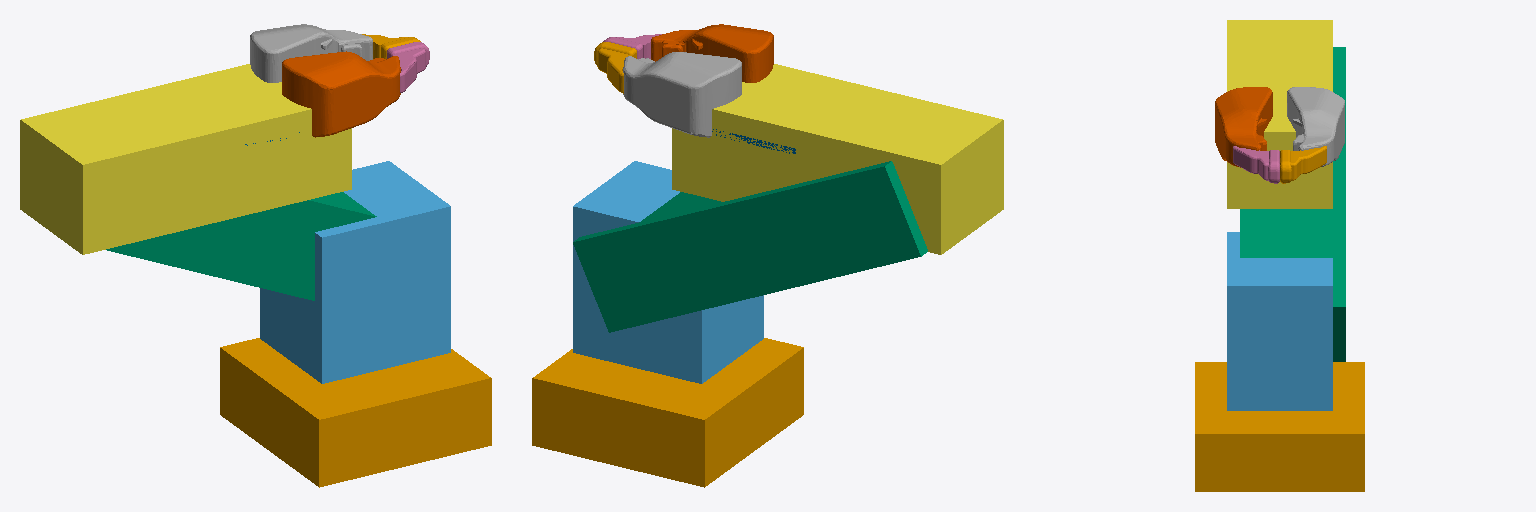
robot.urdf — cobra:
<?xml version="1.0"?>
<robot name="cobra">

  <link name="bottom">
    <visual>
      <geometry>
        <box size="0.8 0.8 0.3"/>
      </geometry>
    </visual>
  </link>

  <link name="pedestal">
    <visual>
      <geometry>
        <box size="0.6 0.5 0.65"/>
      </geometry>
      <origin rpy="0 0 0" xyz="0 0 0.3"/>
    </visual>
  </link>

  <joint name="bottom_to_pedestal" type="revolute">
    <axis xyz="0 0 1"/>
    <limit effort="1000.0" lower="0.00" upper="3.66519143" velocity="1.0"/>
    <parent link="bottom"/>
    <child link="pedestal"/>
    <origin xyz="0 0 0.25"/>
  </joint>

  <link name="arm">
    <visual>
      <geometry>
        <box size="0.40 0.50 1.60"/>
      </geometry>
      <origin rpy="0 0 0" xyz="0 0.06 0.6"/>
    </visual>
  </link>

  <joint name="pedestal_to_arm" type="revolute">
    <axis xyz="0 1 0"/>
    <limit effort="1000.0" lower="0" upper="2.18166157" velocity="1.0"/>  
    <parent link="pedestal"/>
    <child link="arm"/>
    <origin rpy="0 -1.13446401 0" xyz="0 0 0.4"/>
  </joint>

    <link name="forearm">
    <visual>
      <geometry>
        <box size="0.40 0.50 1.25"/>
      </geometry>
      <origin rpy="0 0 0" xyz="-0.1 0 0.3"/>
    </visual>
  </link>

  <joint name="arm_to_forearm" type="revolute">
    <axis xyz="0 -1 0"/>
    <limit effort="1000.0" lower="0" upper="3.14" velocity="1.0"/>
    <parent link="arm"/>
    <child link="forearm"/>
    <origin rpy="0 2.70526034 0" xyz="0 0 1.2"/>
  </joint>

  <link name="platform">
    <visual>
      <geometry>
        <box size="0.03 0.50 0.50"/>
      </geometry>
      <origin rpy="0 0 0" xyz="0 0 0"/>
    </visual>
  </link>

  <joint name="forearm_to_platform" type="fixed">
    <parent link="forearm"/>
    <child link="platform"/>
    <origin xyz="-0.2 0 0.6"/>
  </joint>

  <!-- Gripper -->
  <joint name="left_gripper_joint" type="revolute">
    <axis xyz="1 0 0"/>
    <limit effort="1000.0" lower="0" upper="0.523599" velocity="1.0"/>
    <origin rpy="0 0 0" xyz="-0.1 -0.08 0.15"/>
    <parent link="platform"/>
    <child link="left_gripper"/>
  </joint>

  <link name="left_gripper">
    <visual>
      <origin rpy="3.1415 -1.57 0" xyz="0 0 0"/>
      <geometry>
        <mesh filename="package://cobrotic/meshes/l_finger.dae"/>
      </geometry>
    </visual>
  </link>

  <joint name="left_tip_joint" type="fixed">
    <origin rpy="0 0 0" xyz="0 0 0.5"/>
    <parent link="left_gripper"/>
    <child link="left_tip"/>
  </joint>

  <link name="left_tip">
    <visual>
      <origin rpy="3.1415 -1.57 0" xyz="0 0 0"/>
      <geometry>
        <mesh filename="package://cobrotic/meshes/l_finger_tip.dae"/>
      </geometry>
    </visual>
  </link>

  <joint name="right_gripper_joint" type="revolute">
    <axis xyz="1 0 0"/>
    <limit effort="1000.0" lower="0.0" upper="0.523599" velocity="1.0"/>
    <origin rpy="0 0 3.1415" xyz="-0.1 0.08 0.15"/>
    <parent link="platform"/>
    <child link="right_gripper"/>
  </joint>

  <link name="right_gripper">
    <visual>
      <origin rpy="0 -1.57 3.1415" xyz="0 0 0"/>
      <geometry>
        <mesh filename="package://cobrotic/meshes/l_finger.dae"/>
      </geometry>
    </visual>
  </link>

  <joint name="right_tip_joint" type="fixed">
    <origin rpy="0 0 0" xyz="0 0 0.5"/>
    <parent link="right_gripper"/>
    <child link="right_tip"/>
  </joint>

  <link name="right_tip">
    <visual>
      <origin rpy="0 -1.57 3.1415" xyz="0 0 0"/>
      <geometry>
        <mesh filename="package://cobrotic/meshes/l_finger_tip.dae"/>
      </geometry>
    </visual>
  </link>

  <gazebo>
    <plugin name="gazebo_ros2_control" filename="libgazebo_ros2_control.so"/>
  </gazebo>

</robot>

--- Facts derived from the render (not from the file) ---
Views: 3 orthographic renders of the robot side by side, from view 1: azimuth 30°, elevation 25°; view 2: azimuth 150°, elevation 25°; view 3: azimuth 270°, elevation 25°.
Model cobra with 9 links and 8 joints (5 revolute, 3 fixed), rooted at bottom, posed every joint at zero.
Visible links, largest first — view 1: forearm, pedestal, bottom, arm, left_gripper, right_gripper, left_tip, right_tip; view 2: arm, forearm, bottom, pedestal, right_gripper, left_gripper, right_tip, left_tip; view 3: bottom, pedestal, forearm, arm, left_gripper, right_gripper, right_tip, left_tip.
Link boxes in pixels (<box>): forearm: <box>20,64,351,254</box>; pedestal: <box>260,161,450,383</box>; bottom: <box>220,338,491,487</box>; arm: <box>106,192,376,300</box>; left_gripper: <box>282,51,400,137</box>; right_gripper: <box>250,24,372,82</box>; left_tip: <box>387,42,429,92</box>; right_tip: <box>362,34,420,58</box>; arm: <box>573,161,927,332</box>; forearm: <box>672,64,1003,254</box>; bottom: <box>532,338,803,487</box>; pedestal: <box>573,161,763,383</box>; right_gripper: <box>623,52,741,137</box>; left_gripper: <box>651,24,773,82</box>; right_tip: <box>594,42,636,93</box>; left_tip: <box>603,34,661,58</box>; bottom: <box>1195,362,1364,491</box>; pedestal: <box>1227,232,1332,410</box>; forearm: <box>1227,20,1332,208</box>; arm: <box>1240,47,1345,361</box>; left_gripper: <box>1215,87,1272,167</box>; right_gripper: <box>1287,87,1344,166</box>; right_tip: <box>1280,146,1326,183</box>; left_tip: <box>1233,146,1279,183</box>.
Size in the robot's own frame: 1.81 by 0.8 by 1.75 metres.
Meshes: 2 distinct files referenced, 4 mesh visuals loaded (2 Collada DAE).